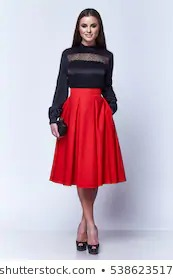S_blouse: (46, 46, 119, 126)
